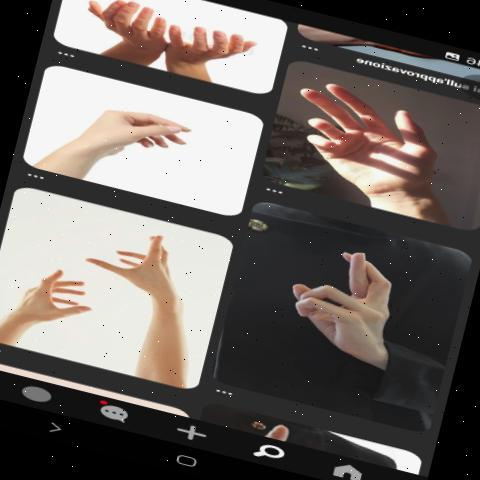Hands: (286, 69, 444, 207), (272, 243, 418, 376), (46, 95, 194, 182), (78, 224, 188, 335), (0, 256, 104, 354), (68, 0, 172, 59), (157, 23, 263, 74)
